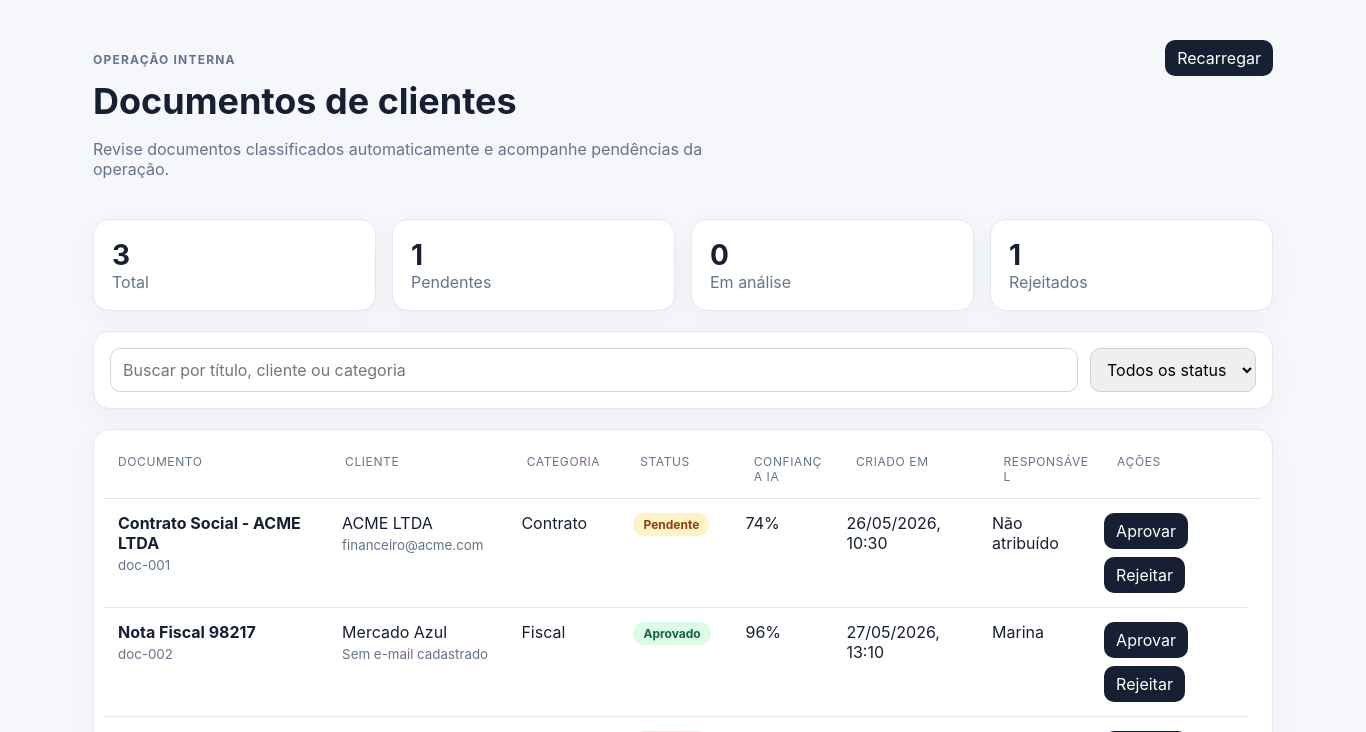
mutação de status › aplica atualização otimista ao aprovar
The width and height of the screenshot is (1366, 732).
expect the text "Contrato Social - ACME LTDA" is shown: met, box [118, 513, 301, 553]
expect the text "Pendente" is shown: met, box [634, 513, 709, 536]
Click the button "Aprovar" in the row of "Contrato Social - ACME LTDA".
click(1146, 531)  # box [1104, 513, 1188, 549]
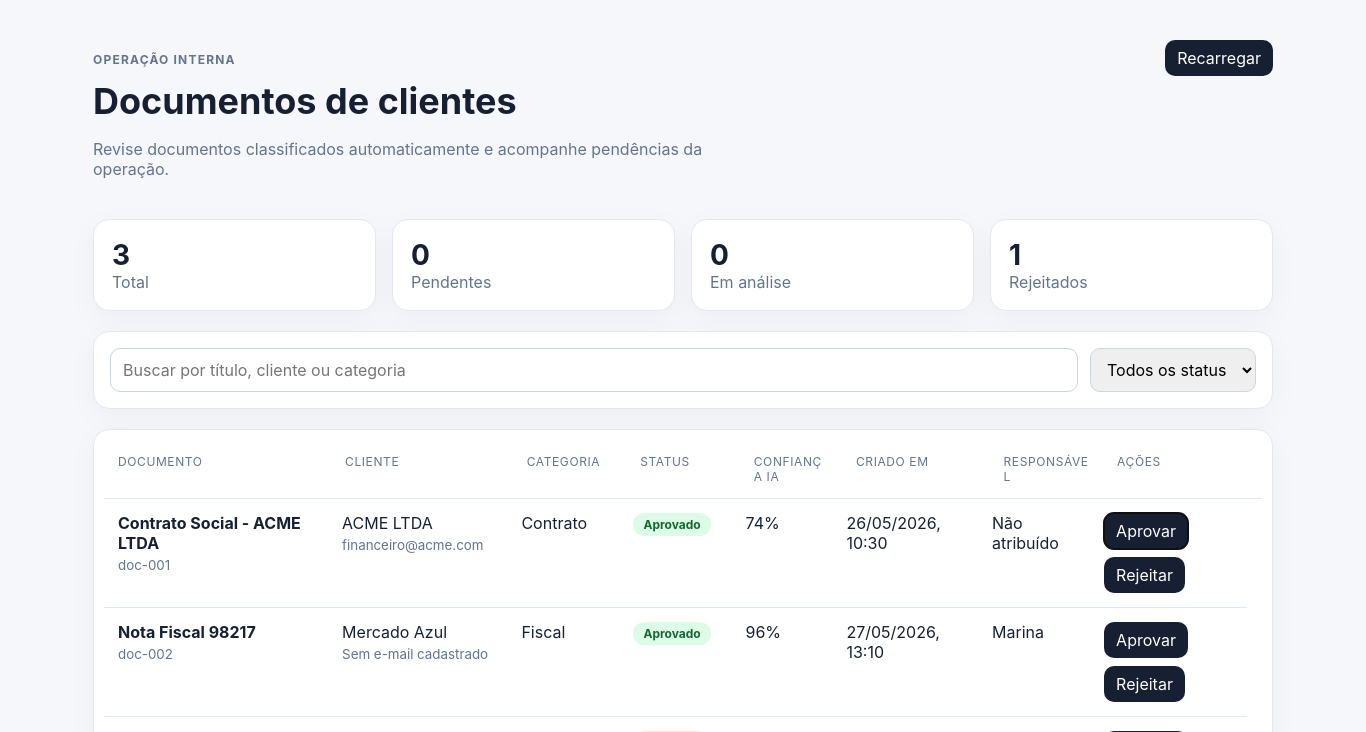
expect the text "Aprovado" in the row of "Contrato Social - ACME LTDA" is shown: met, box [644, 517, 701, 532]
